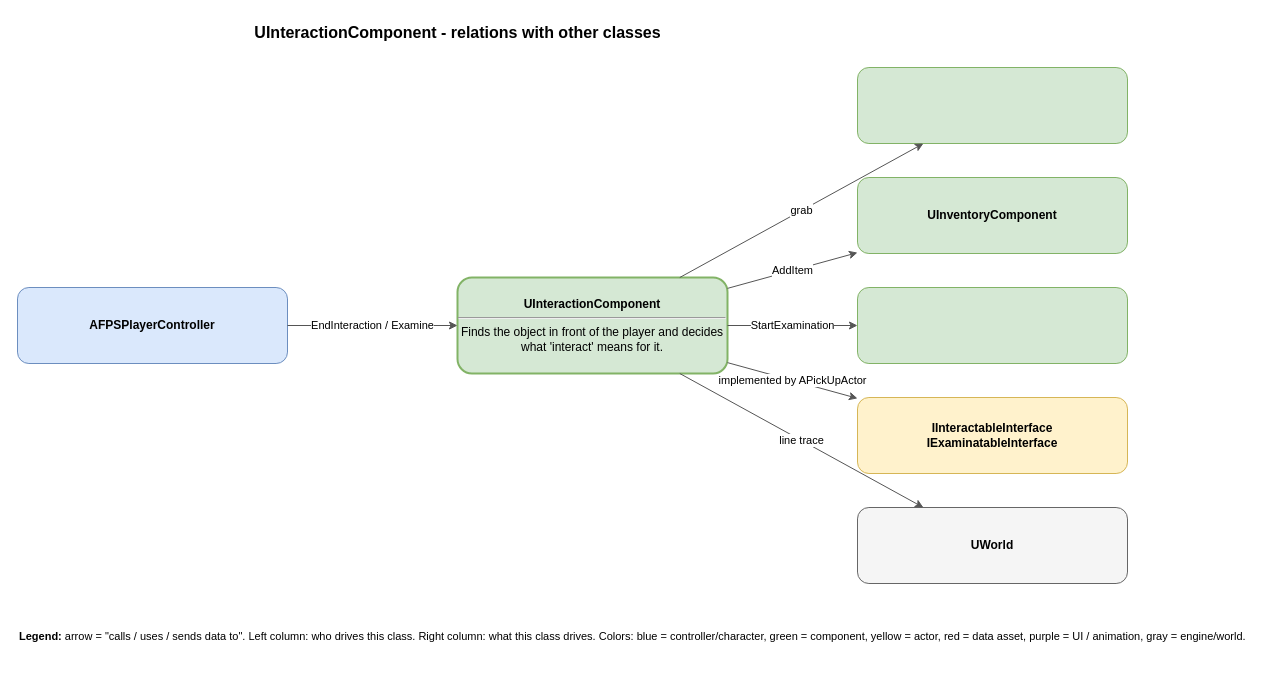
This 1264x680 diagram has some shape labels left out. The shapes that lost their labels are listed below. From the top down, each one's box as (x1, y1, x2, y2) in pixels, then its label:
(856, 66, 1128, 144): UHandleGrabComponent
(856, 286, 1128, 364): UExaminationComponent
